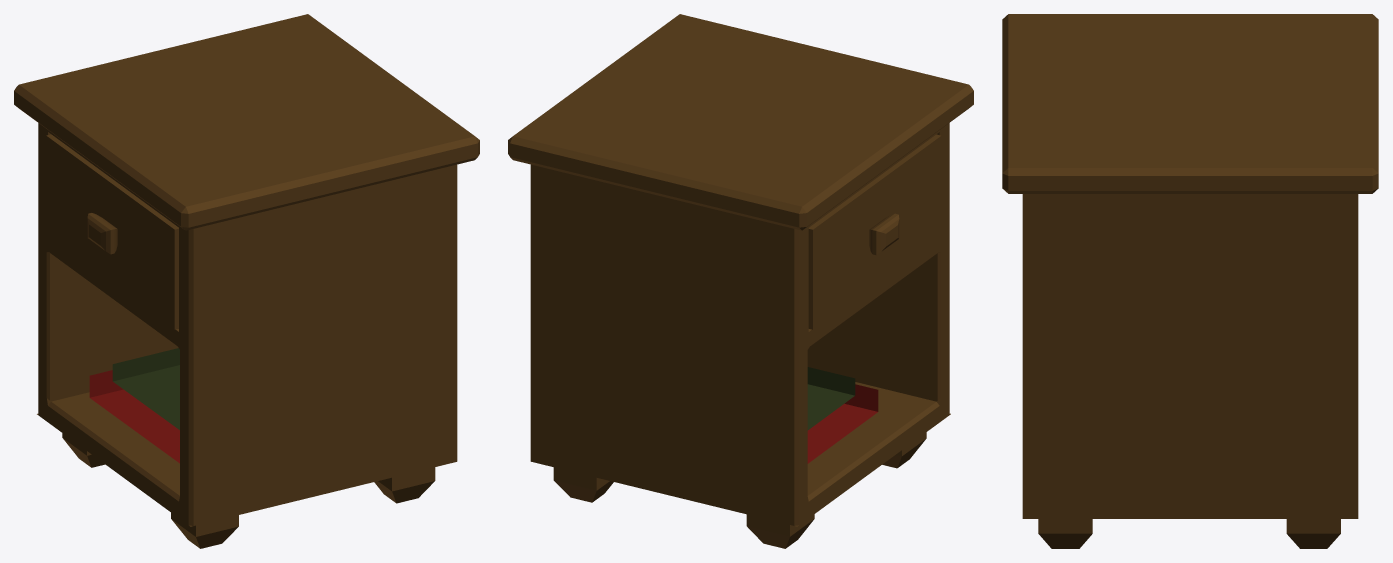
The model's file is Nachttisch.fbx.
The picture shows the model from 3 angles, left to right: view 1: azimuth 30°, elevation 25°; view 2: azimuth 150°, elevation 25°; view 3: azimuth 270°, elevation 25°; orthographic projection. The views are drawn at different scales.
Parts seen in each view (by area): view 1: Cube; view 2: Cube; view 3: Cube.
Boxes of the visible parts, x1=… form: Cube: x1=14, y1=14, x2=479, y2=548; Cube: x1=508, y1=14, x2=973, y2=548; Cube: x1=1002, y1=14, x2=1378, y2=548.
Bounding box in the file's own units: 117 × 136 × 116.
